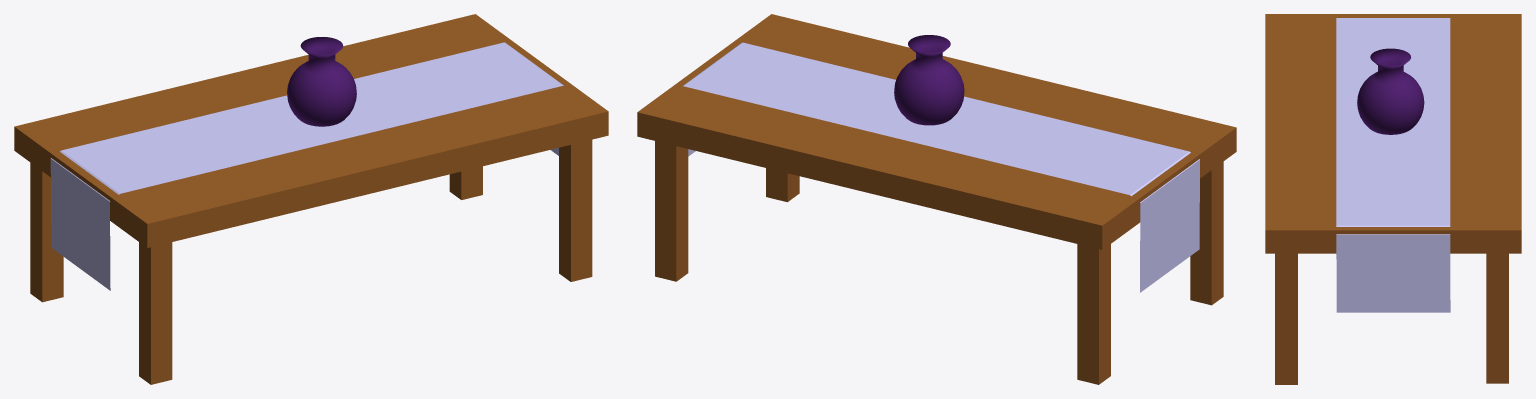
File: Table_med.glb
3 renders of one model, left to right at view 1: azimuth 30°, elevation 25°; view 2: azimuth 150°, elevation 25°; view 3: azimuth 270°, elevation 25°, orthographic. The views are drawn at different scales.
Visible parts, largest first — view 1: Floor, Plane, Floor.001, Floor.002, Sphere, Floor.003, Floor.004; view 2: Floor, Plane, Sphere, Floor.003, Floor.004, Floor.001, Floor.002; view 3: Floor, Plane, Sphere, Floor.002, Floor.004.
Boxes of the visible parts, x1,y1,x2,y2 form: Floor: [14, 14, 608, 247]; Plane: [50, 42, 563, 290]; Floor.001: [139, 242, 172, 384]; Floor.002: [559, 139, 592, 281]; Sphere: [287, 37, 356, 126]; Floor.003: [30, 162, 63, 302]; Floor.004: [449, 166, 482, 199]; Floor: [637, 14, 1236, 249]; Plane: [682, 42, 1199, 292]; Sphere: [894, 35, 964, 125]; Floor.003: [1077, 244, 1110, 384]; Floor.004: [655, 141, 688, 281]; Floor.001: [1190, 161, 1223, 305]; Floor.002: [766, 168, 799, 202]; Floor: [1265, 14, 1521, 253]; Plane: [1336, 18, 1450, 312]; Sphere: [1357, 48, 1424, 134]; Floor.002: [1275, 253, 1297, 384]; Floor.004: [1486, 253, 1508, 383].
Size of the model in its own units: 4.03 by 1.98 by 2.
